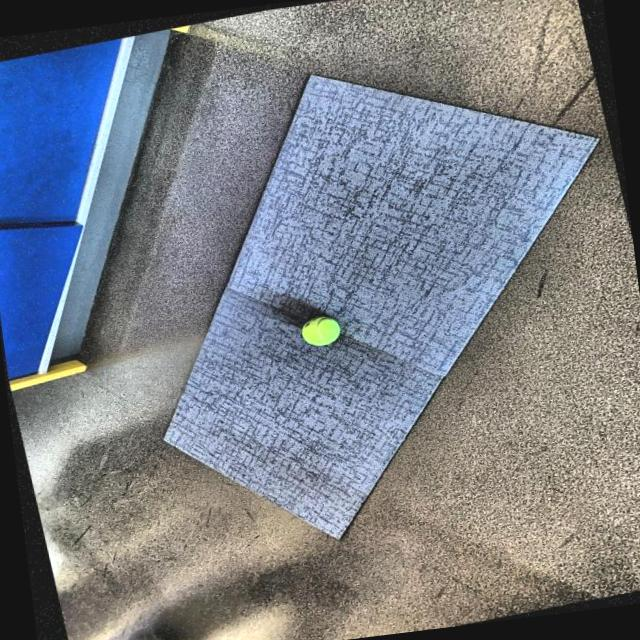Tennis Ball: (290, 302, 348, 355)
